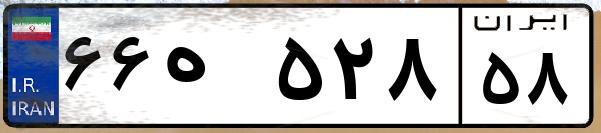2: (330, 28, 385, 110)
5: (270, 28, 330, 110), (475, 38, 525, 113)
6: (57, 26, 110, 100), (110, 28, 158, 98)
8: (385, 28, 445, 110), (525, 38, 570, 115)
ه: (158, 20, 270, 120)
